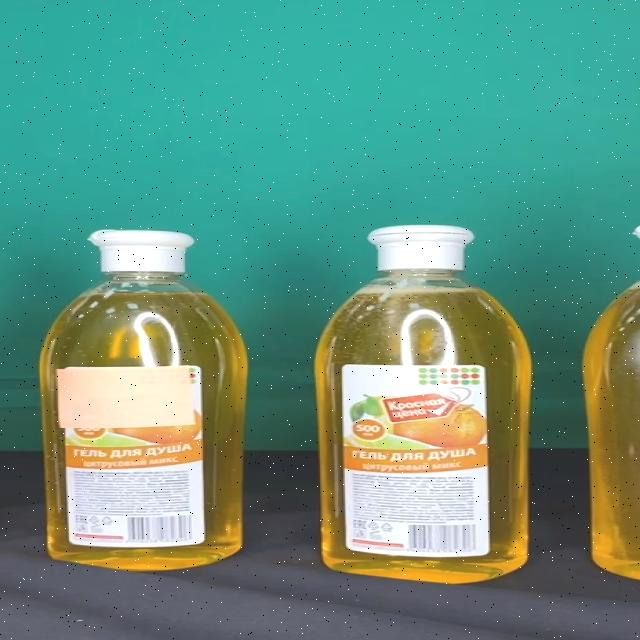Bottle: (317, 225, 532, 583), (43, 229, 247, 572)
Cap: (88, 229, 194, 273), (370, 225, 474, 269)
